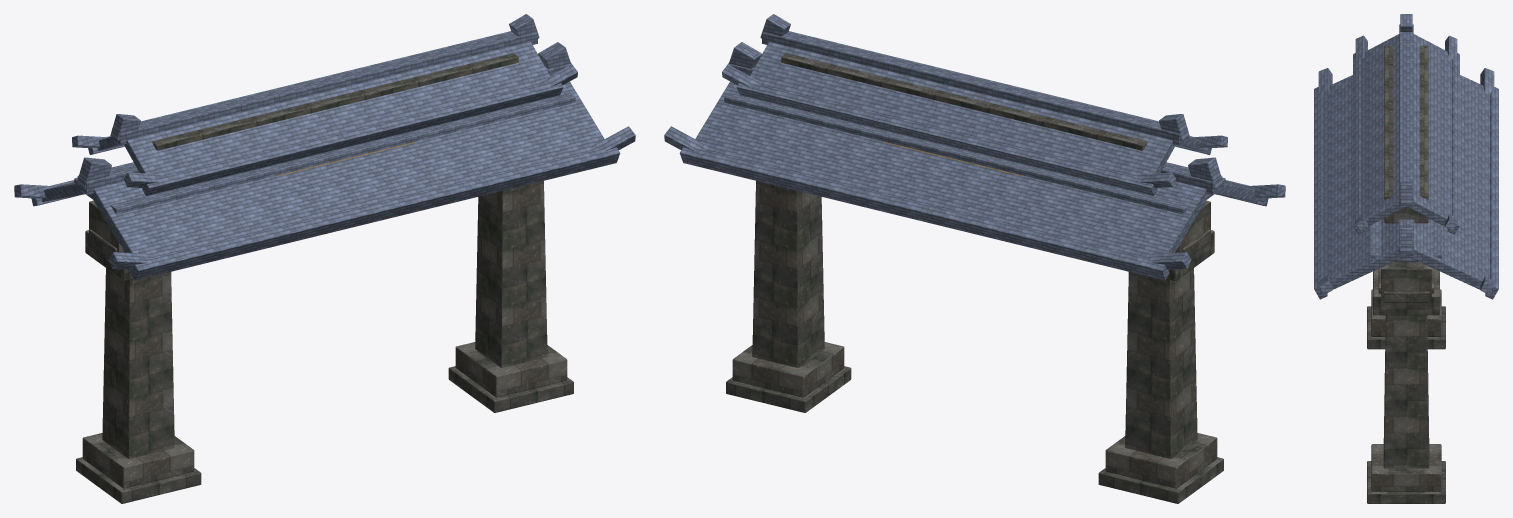
Rendered from shortcut_arch.glb.
3 renders of one model, left to right at view 1: azimuth 30°, elevation 25°; view 2: azimuth 150°, elevation 25°; view 3: azimuth 270°, elevation 25°, orthographic. The views are drawn at different scales.
Visible parts, largest first — view 1: portal_tile_mesh, portal_stone_mesh; view 2: portal_tile_mesh, portal_stone_mesh; view 3: portal_tile_mesh, portal_stone_mesh.
Boxes of the visible parts, bbox=[...] form: portal_tile_mesh: bbox=[14, 14, 635, 280]; portal_stone_mesh: bbox=[76, 53, 573, 503]; portal_tile_mesh: bbox=[664, 14, 1285, 280]; portal_stone_mesh: bbox=[726, 53, 1223, 503]; portal_tile_mesh: bbox=[1314, 14, 1498, 299]; portal_stone_mesh: bbox=[1367, 45, 1445, 503].
Bounding box in the file's own units: 15.01 × 10.04 × 5.4.
4 materials, 4 textured.
